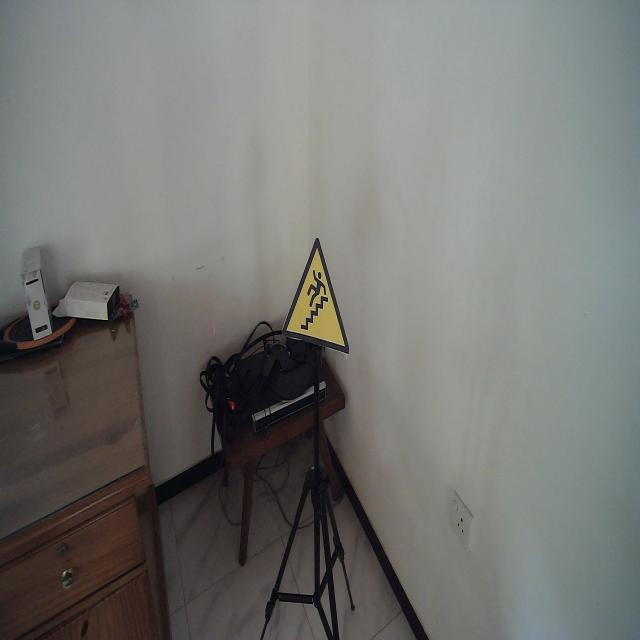stairs: (280, 235, 352, 358)
